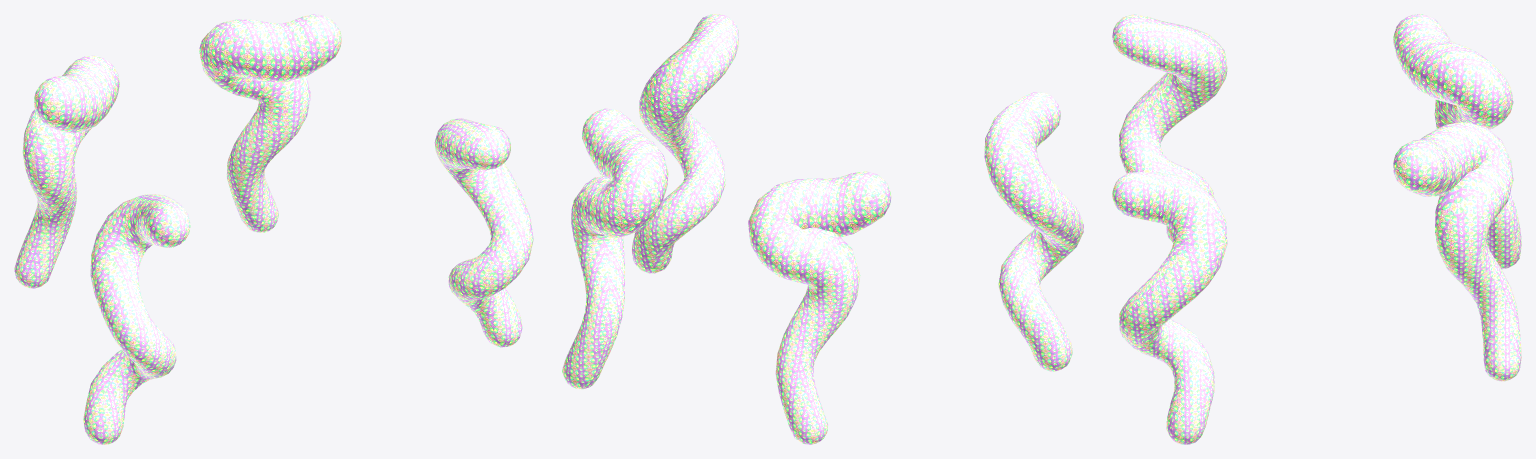
Rendered from Floorworms.glb.
3 renders of one model, left to right at view 1: azimuth 30°, elevation 25°; view 2: azimuth 150°, elevation 25°; view 3: azimuth 270°, elevation 25°, orthographic.
Parts seen in each view (by area): view 1: Land_WORMS; view 2: Land_WORMS; view 3: Land_WORMS.
Boxes of the visible parts, x1,y1,x2,y2 form: Land_WORMS: (14, 14, 533, 444); Land_WORMS: (562, 14, 1083, 444); Land_WORMS: (1112, 14, 1521, 444).
Bounding box in the file's own units: 62.16 × 36.03 × 50.34.
